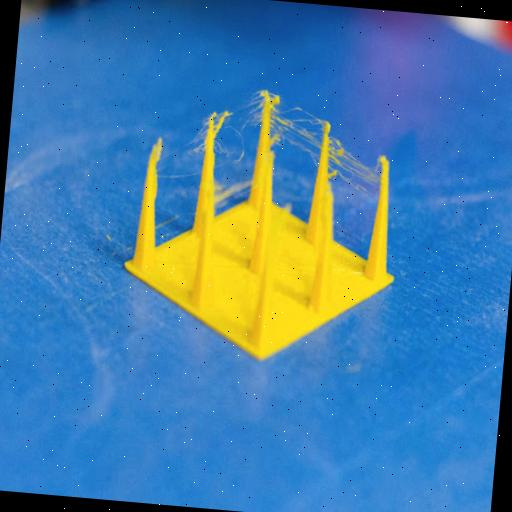stringing: (211, 80, 267, 162), (264, 94, 330, 158), (322, 138, 384, 201), (180, 123, 206, 169)
